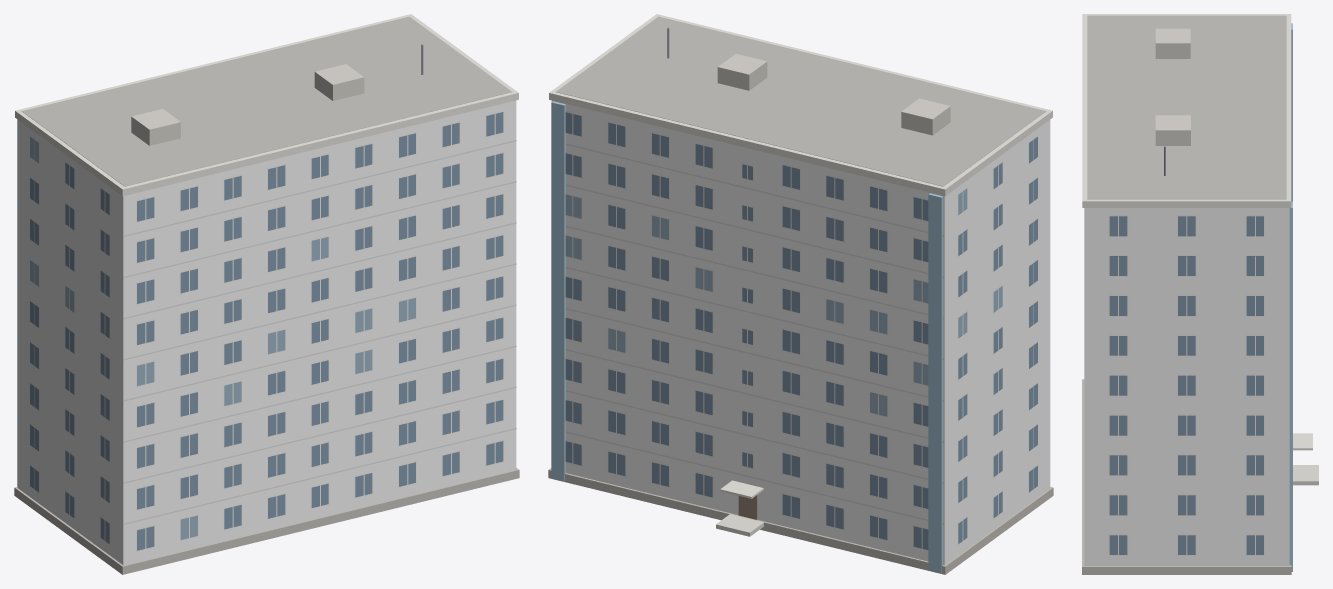
The model's file is tower_9.glb.
3 views of the same model, side by side, from view 1: azimuth 30°, elevation 25°; view 2: azimuth 150°, elevation 25°; view 3: azimuth 270°, elevation 25° (orthographic). The views are drawn at different scales.
Visible parts, largest first — view 1: Tower9; view 2: Tower9; view 3: Tower9.
Part boxes in pixels (x1,y1,x2,y2): Tower9: (14, 14, 519, 574); Tower9: (548, 14, 1053, 574); Tower9: (1082, 14, 1318, 574).
Size of the model in its own units: 30.3 by 30.3 by 16.15.
